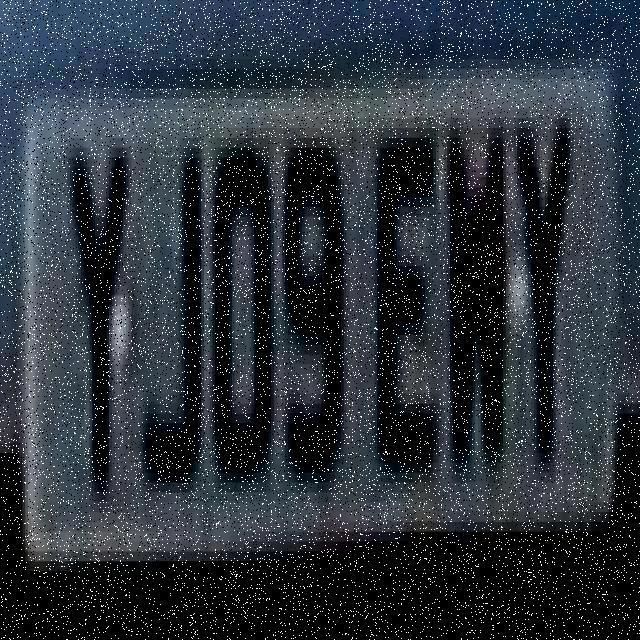LicensePlate: (10, 31, 633, 610)
